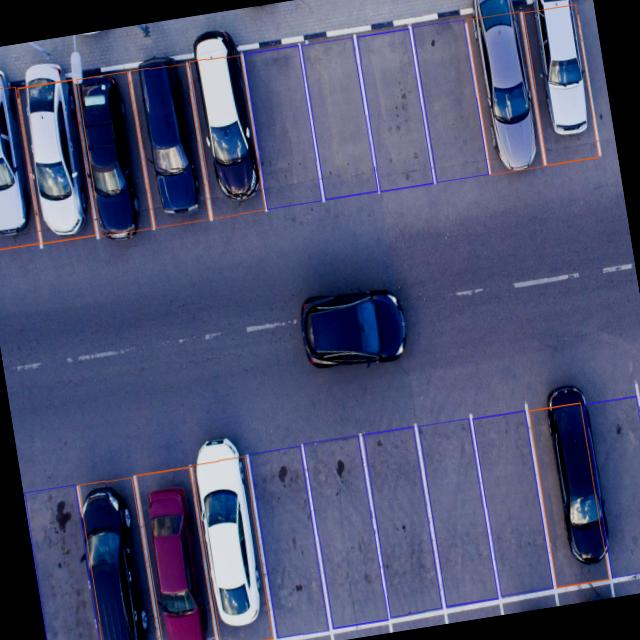car: (525, 396, 613, 590), (186, 453, 277, 640), (130, 466, 220, 640), (68, 65, 155, 237), (183, 46, 269, 220), (126, 58, 212, 229), (463, 2, 548, 175), (75, 476, 163, 640), (13, 73, 97, 244), (519, 0, 601, 165), (0, 74, 40, 250)
free: (302, 434, 391, 632), (244, 443, 333, 640), (414, 416, 501, 612), (359, 424, 446, 620), (470, 407, 556, 602), (238, 40, 326, 211), (296, 31, 381, 199), (354, 22, 436, 190), (410, 13, 491, 183), (24, 485, 108, 640), (583, 388, 640, 580), (573, 0, 616, 152)
